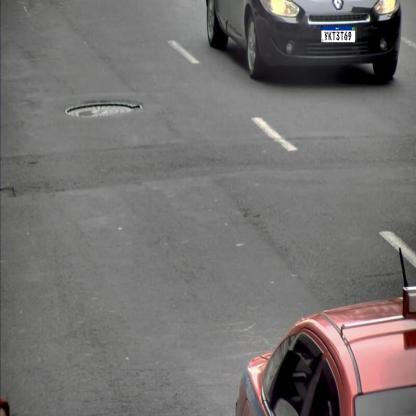PlacaM: (321, 26, 356, 43)
